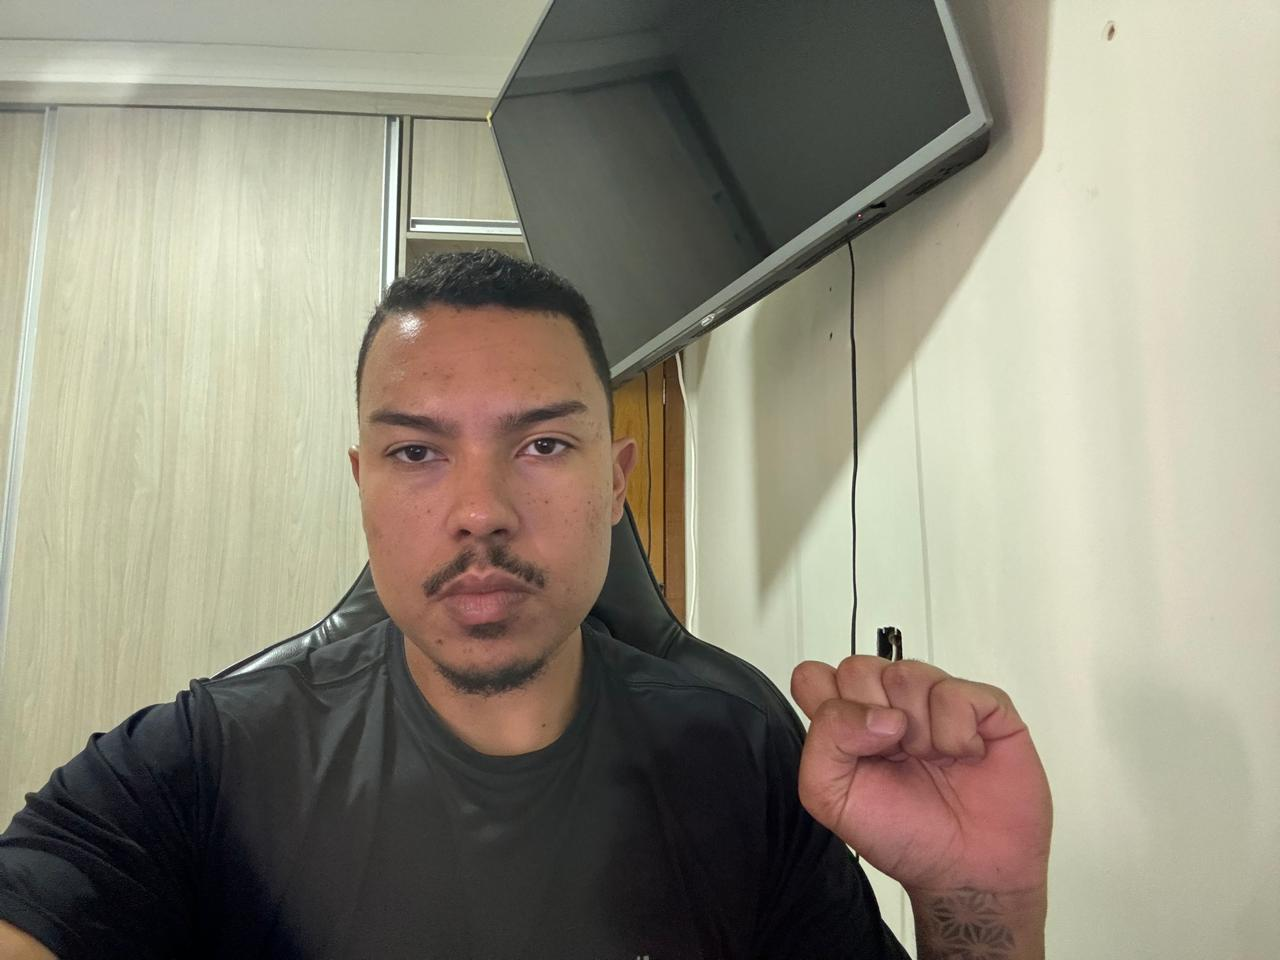s: (777, 628, 1069, 899)
